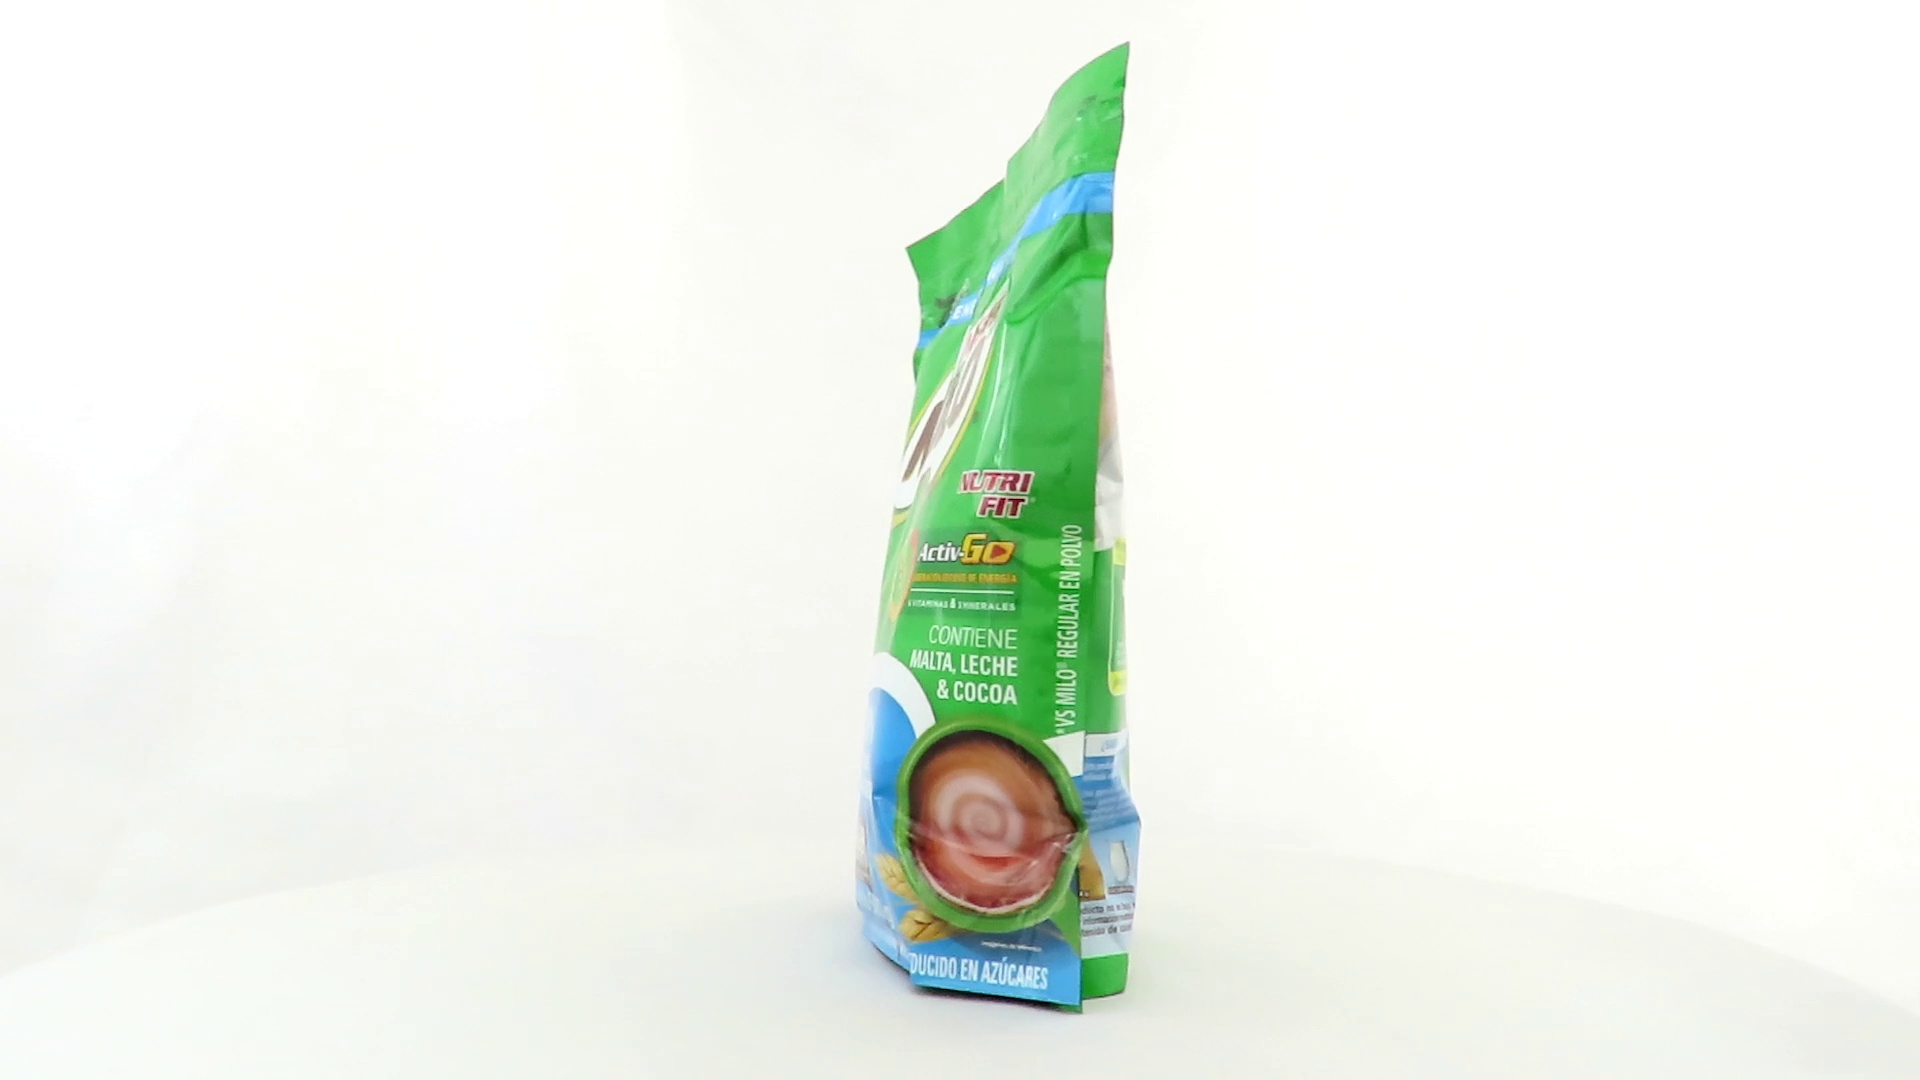COL0170205DYP50000: (851, 36, 1149, 1021)
